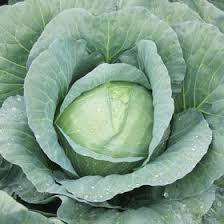cabbage: (57, 77, 168, 173)
